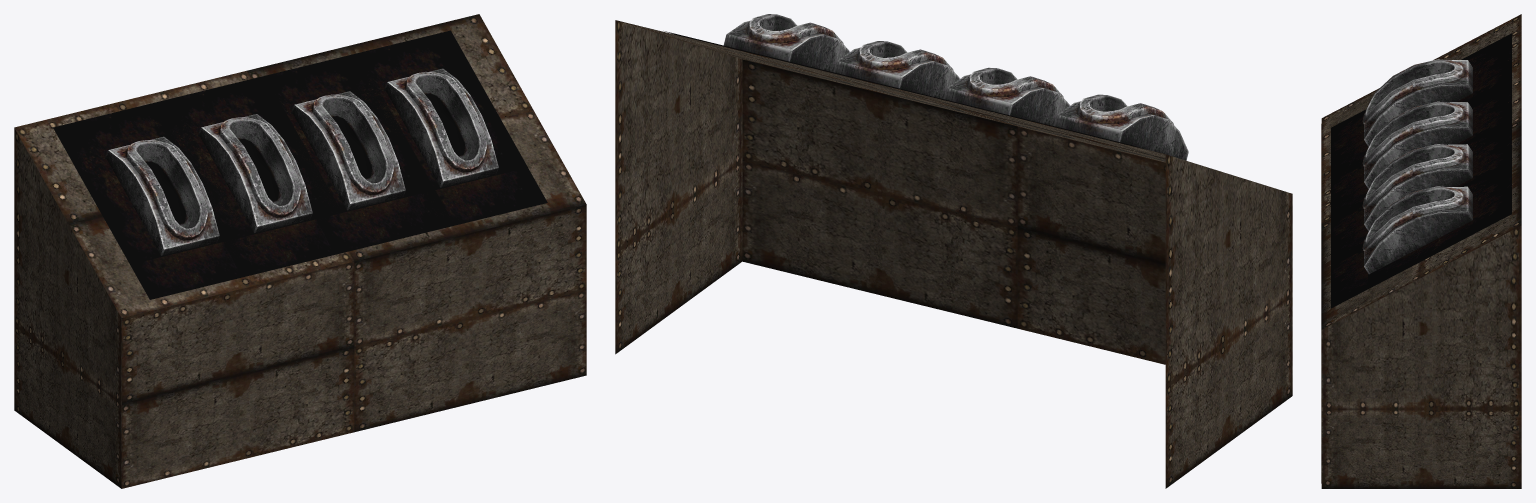
The model's file is control_room_piston_lever_panel.dae.
3 views of the same model, side by side, from view 1: azimuth 30°, elevation 25°; view 2: azimuth 150°, elevation 25°; view 3: azimuth 270°, elevation 25° (orthographic). The views are drawn at different scales.
Parts seen in each view (by area): view 1: box, polySurface5, lever_mounts; view 2: box, lever_mounts, polySurface5; view 3: box, lever_mounts, polySurface5.
Part boxes in pixels (bbox=[...]): box: bbox=[14, 14, 586, 488]; polySurface5: bbox=[53, 30, 547, 299]; lever_mounts: bbox=[105, 68, 498, 255]; box: bbox=[615, 20, 1292, 488]; lever_mounts: bbox=[723, 14, 1188, 160]; polySurface5: bbox=[664, 31, 1144, 149]; box: bbox=[1321, 14, 1521, 488]; lever_mounts: bbox=[1362, 59, 1472, 274]; polySurface5: bbox=[1331, 33, 1511, 308].
Size of the model in its own units: 2.5 by 1.45 by 1.
